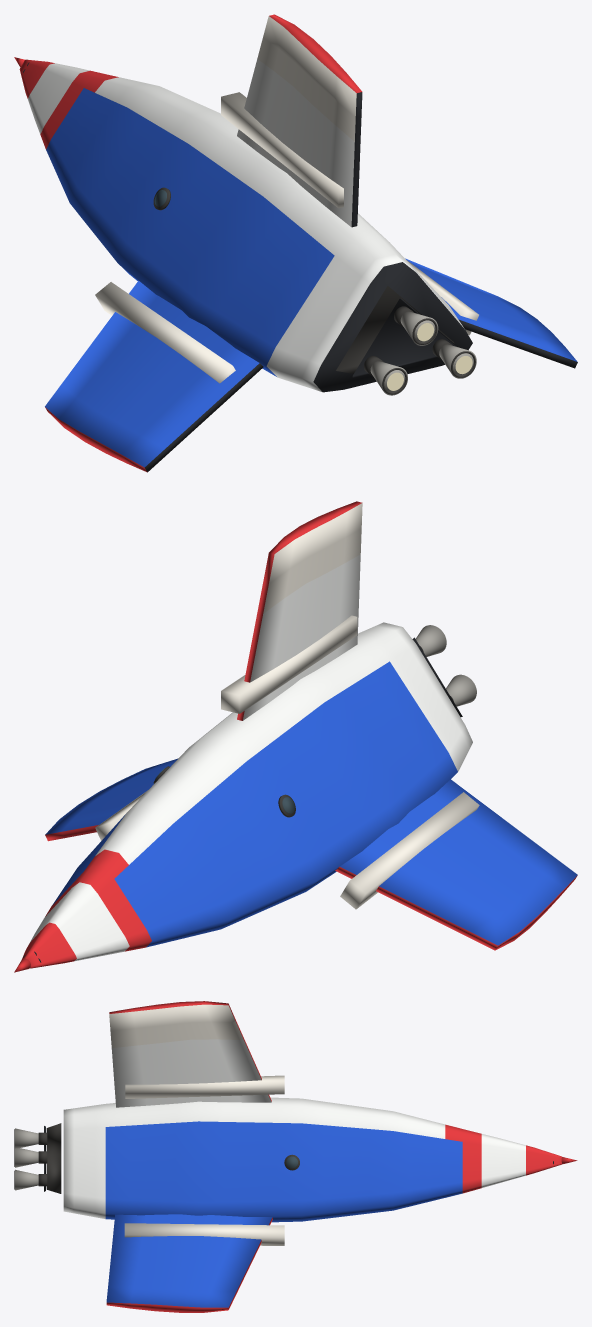
The model's file is Ship_Standard_15.glb.
The picture shows the model from 3 angles, top to bottom: view 1: azimuth 30°, elevation 25°; view 2: azimuth 150°, elevation 25°; view 3: azimuth 270°, elevation 25°; orthographic projection. The views are drawn at different scales.
Parts seen in each view (by area): view 1: Fuselage_RoundedTriangleTriFoldBody, Wing_LowerLeft_TriFoldCornerBladePaintedMesh, Wing_Dorsal_TriFoldCornerBladePaintedMesh, Wing_LowerRight_TriFoldCornerBladePaintedMesh, Nose_RoundedTriangleTaperedForwardSection, WingRootSocket_LowerLeft_IntegratedEmbeddedShoulder, WingRootSocket_Dorsal_IntegratedEmbeddedShoulder, EngineBlock_AftTriFoldTrimFrame, EngineBlock_AftTriangularIntegratedMountPlate, EngineEmitter, WingRootSocket_LowerRight_IntegratedEmbeddedShoulder, EngineBell_Dorsal_BurnishedNozzle (+2 smaller); view 2: Fuselage_RoundedTriangleTriFoldBody, Wing_LowerLeft_TriFoldCornerBladePaintedMesh, Wing_Dorsal_TriFoldCornerBladePaintedMesh, Nose_RoundedTriangleTaperedForwardSection, WingRootSocket_LowerLeft_IntegratedEmbeddedShoulder, WingRootSocket_Dorsal_IntegratedEmbeddedShoulder, Wing_LowerRight_TriFoldCornerBladePaintedMesh, EngineBell_Dorsal_BurnishedNozzle, EngineBell_LowerLeft_BurnishedNozzle; view 3: Fuselage_RoundedTriangleTriFoldBody, Wing_Dorsal_TriFoldCornerBladePaintedMesh, Wing_LowerRight_TriFoldCornerBladePaintedMesh, Nose_RoundedTriangleTaperedForwardSection, WingRootSocket_Dorsal_IntegratedEmbeddedShoulder, WingRootSocket_LowerRight_IntegratedEmbeddedShoulder, EngineBlock_AftTriangularIntegratedMountPlate.
Boxes of the visible parts, left/top/right/bottom form: Fuselage_RoundedTriangleTriFoldBody: left=46, top=74, right=472, bottom=392; Wing_LowerLeft_TriFoldCornerBladePaintedMesh: left=45, top=280, right=263, bottom=472; Wing_Dorsal_TriFoldCornerBladePaintedMesh: left=237, top=14, right=362, bottom=227; Wing_LowerRight_TriFoldCornerBladePaintedMesh: left=405, top=258, right=577, bottom=368; Nose_RoundedTriangleTaperedForwardSection: left=19, top=59, right=104, bottom=149; WingRootSocket_LowerLeft_IntegratedEmbeddedShoulder: left=95, top=282, right=235, bottom=383; WingRootSocket_Dorsal_IntegratedEmbeddedShoulder: left=221, top=92, right=343, bottom=208; EngineBlock_AftTriFoldTrimFrame: left=352, top=298, right=457, bottom=377; EngineBlock_AftTriangularIntegratedMountPlate: left=336, top=286, right=454, bottom=373; EngineEmitter: left=387, top=323, right=472, bottom=390; WingRootSocket_LowerRight_IntegratedEmbeddedShoulder: left=406, top=260, right=478, bottom=335; EngineBell_Dorsal_BurnishedNozzle: left=400, top=311, right=438, bottom=345; Fuselage_RoundedTriangleTriFoldBody: left=52, top=622, right=472, bottom=947; Wing_LowerLeft_TriFoldCornerBladePaintedMesh: left=335, top=779, right=577, bottom=950; Wing_Dorsal_TriFoldCornerBladePaintedMesh: left=237, top=501, right=362, bottom=720; Nose_RoundedTriangleTaperedForwardSection: left=21, top=865, right=151, bottom=968; WingRootSocket_LowerLeft_IntegratedEmbeddedShoulder: left=340, top=792, right=479, bottom=909; WingRootSocket_Dorsal_IntegratedEmbeddedShoulder: left=221, top=615, right=357, bottom=713; Wing_LowerRight_TriFoldCornerBladePaintedMesh: left=45, top=758, right=177, bottom=841; EngineBell_Dorsal_BurnishedNozzle: left=415, top=625, right=446, bottom=656; EngineBell_LowerLeft_BurnishedNozzle: left=446, top=674, right=476, bottom=706; Fuselage_RoundedTriangleTriFoldBody: left=63, top=1097, right=462, bottom=1222; Wing_Dorsal_TriFoldCornerBladePaintedMesh: left=109, top=1001, right=271, bottom=1107; Wing_LowerRight_TriFoldCornerBladePaintedMesh: left=106, top=1214, right=272, bottom=1312; Nose_RoundedTriangleTaperedForwardSection: left=462, top=1129, right=561, bottom=1193; WingRootSocket_Dorsal_IntegratedEmbeddedShoulder: left=125, top=1075, right=284, bottom=1098; WingRootSocket_LowerRight_IntegratedEmbeddedShoulder: left=124, top=1223, right=284, bottom=1245; EngineBlock_AftTriangularIntegratedMountPlate: left=46, top=1123, right=61, bottom=1193.
Size of the model in its own units: 5 by 3.62 by 7.83.
